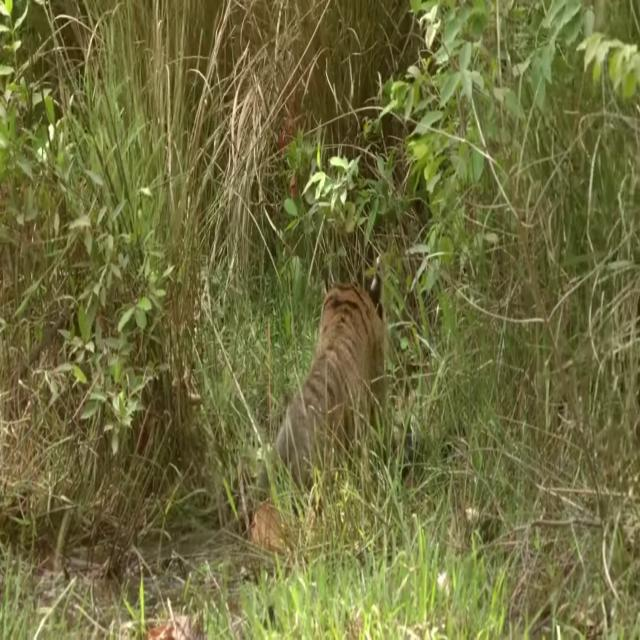tiger: (236, 271, 388, 532)
